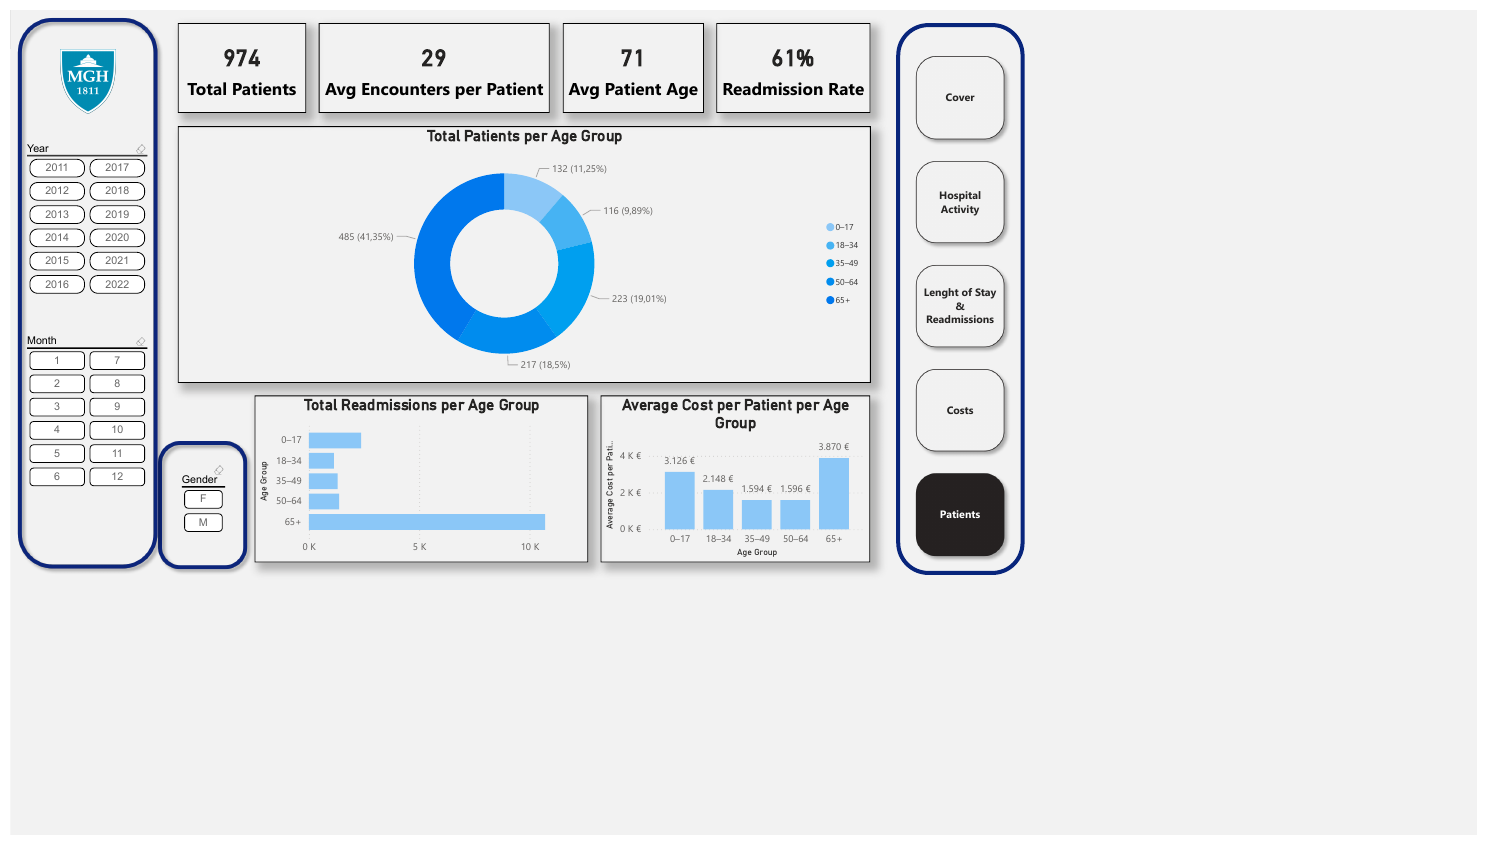

This screenshot's page, from the dashboard's own definition file:
{"tool":"powerbi","page":{"name":"Patients","canvas":[1280,720],"ordinal":4},"visuals":[{"type":"shape","box":[176,528,128,176],"z":0},{"type":"shape","box":[0,0,192,704],"z":1000},{"type":"shape","box":[1104,16,160,688],"z":2000},{"type":"image","box":[48,48,96,80],"z":3000},{"type":"pageNavigator","box":[1120,48,128,640],"z":4000},{"type":"card","fields":{"Values":["MEASURES_.Total Patients"]},"box":[208,16,160,112],"z":5000},{"type":"card","fields":{"Values":["Medidas.Avg Encounters per Patient"]},"box":[384,16,288,112],"z":6000},{"type":"card","fields":{"Values":["Medidas.Avg Patient Age"]},"box":[688,16,176,112],"z":7000},{"type":"card","fields":{"Values":["MEASURES_.Readmission Rate"]},"box":[880,16,192,112],"z":8000},{"type":"donutChart","title":"Total Patients per Age Group","fields":{"Category":["FCT_Encounters.Age Group"],"Y":["Medidas.Total Patients"]},"box":[208,144,864,320],"z":9000},{"type":"barChart","title":"Total Readmissions per Age Group","fields":{"Category":["FCT_Encounters.Age Group"],"Y":["Medidas.Total Readmissions"]},"box":[304,480,416,208],"z":10000},{"type":"columnChart","title":"Average Cost per Patient per Age Group","fields":{"Category":["FCT_Encounters.Age Group"],"Y":["Medidas.Average Cost per Patient"]},"box":[736,480,336,208],"z":11000},{"type":"ChicletSlicer1448559807354","fields":{"Category":["DIM_Date.Year"]},"box":[16,160,160,224],"z":12000},{"type":"ChicletSlicer1448559807354","fields":{"Category":["DIM_Date.Month"]},"box":[16,400,160,208],"z":13000},{"type":"ChicletSlicer1448559807354","fields":{"Category":["DIM_Patients.GENDER"]},"box":[208,560,64,96],"z":14000}]}

Visuals, with their boxes in screenshot pixels (x1, y1, x2, y2), scaled from the page's 1280x720 canvas onto the 1487x845 screenshot:
shape: [x1=204, y1=620, x2=353, y2=826]
shape: [x1=0, y1=0, x2=223, y2=826]
shape: [x1=1283, y1=19, x2=1468, y2=826]
image: [x1=56, y1=56, x2=167, y2=150]
pageNavigator: [x1=1301, y1=56, x2=1450, y2=807]
card - MEASURES_.Total Patients: [x1=242, y1=19, x2=428, y2=150]
card - Medidas.Avg Encounters per Patient: [x1=446, y1=19, x2=781, y2=150]
card - Medidas.Avg Patient Age: [x1=799, y1=19, x2=1004, y2=150]
card - MEASURES_.Readmission Rate: [x1=1022, y1=19, x2=1245, y2=150]
"Total Patients per Age Group" donutChart: [x1=242, y1=169, x2=1245, y2=545]
"Total Readmissions per Age Group" barChart: [x1=353, y1=563, x2=836, y2=807]
"Average Cost per Patient per Age Group" columnChart: [x1=855, y1=563, x2=1245, y2=807]
ChicletSlicer1448559807354 - DIM_Date.Year: [x1=19, y1=188, x2=204, y2=451]
ChicletSlicer1448559807354 - DIM_Date.Month: [x1=19, y1=469, x2=204, y2=714]
ChicletSlicer1448559807354 - DIM_Patients.GENDER: [x1=242, y1=657, x2=316, y2=770]
